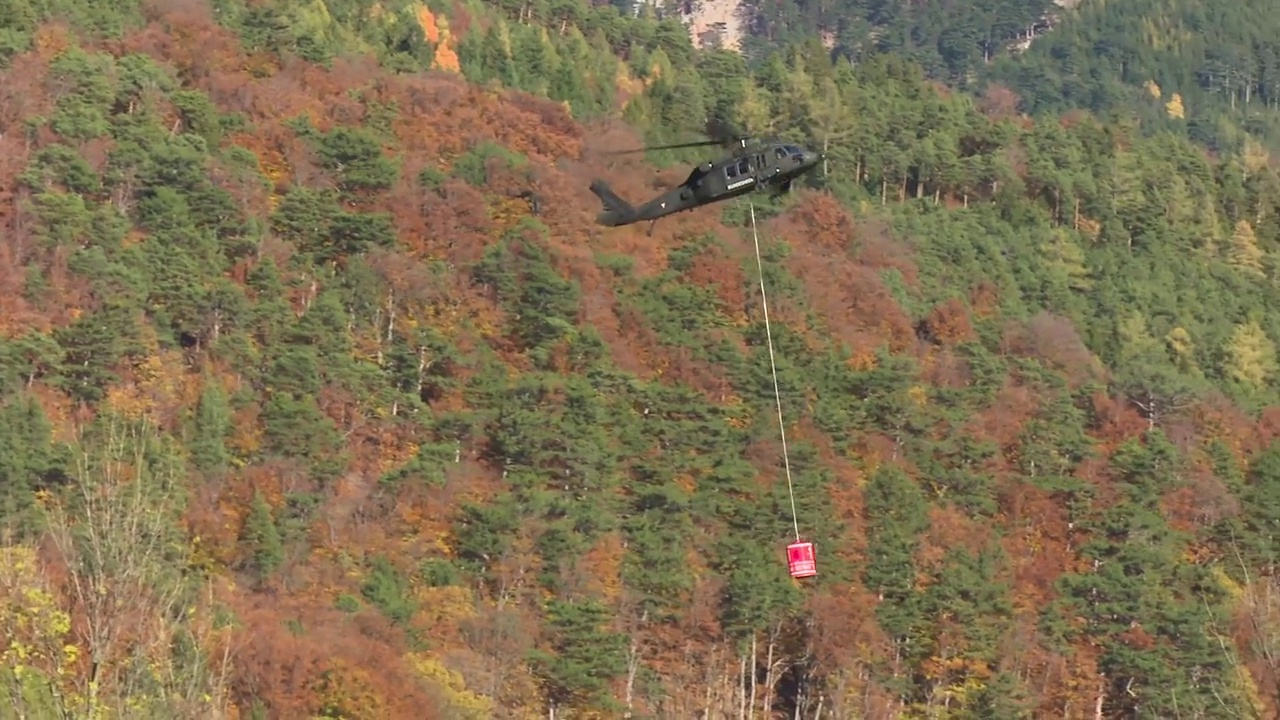heli: (587, 136, 827, 230)
